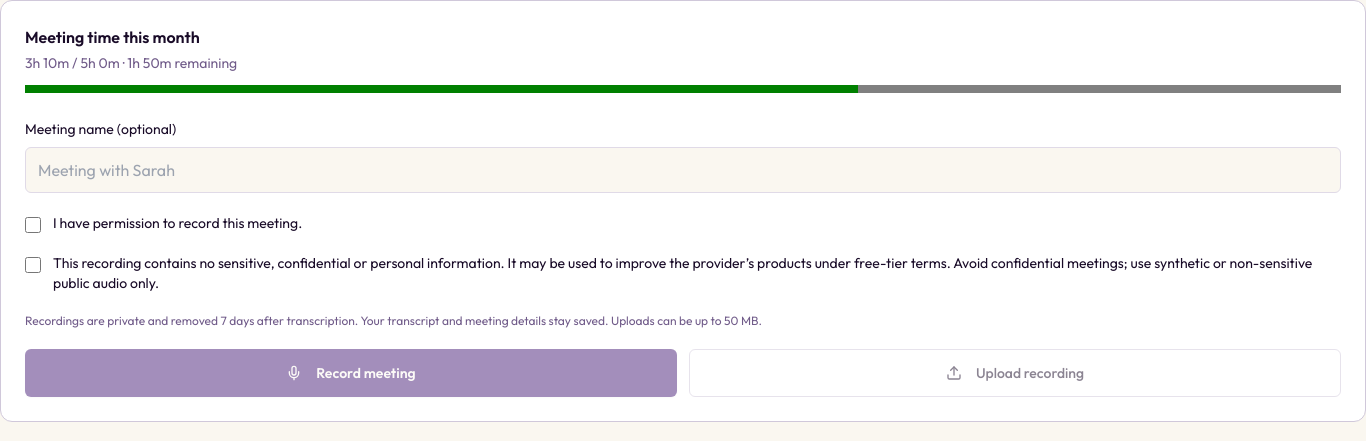
Test: meeting capture › keeps recording when live text reconnects and renders provisional text
The width and height of the screenshot is (1366, 441).
Expected: the text "3h 10m / 5h 0m · 1h 50m remaining" is shown, [25, 54, 237, 72]
Click the checkbox labelled "I have permission to record this meeting." at (33, 225), box [25, 217, 41, 233]
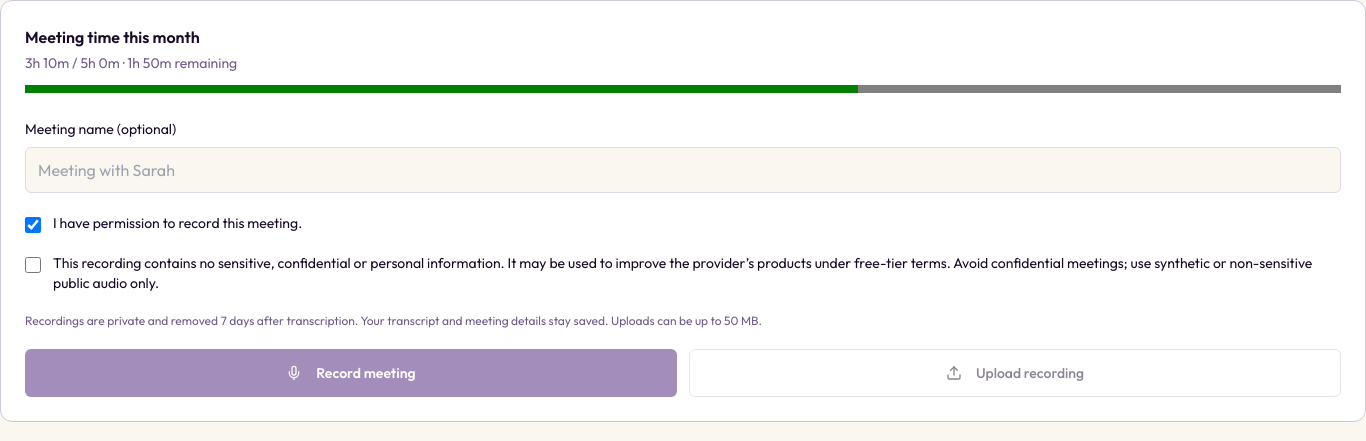
Click the 2nd checkbox at (33, 265), box [25, 257, 41, 273]
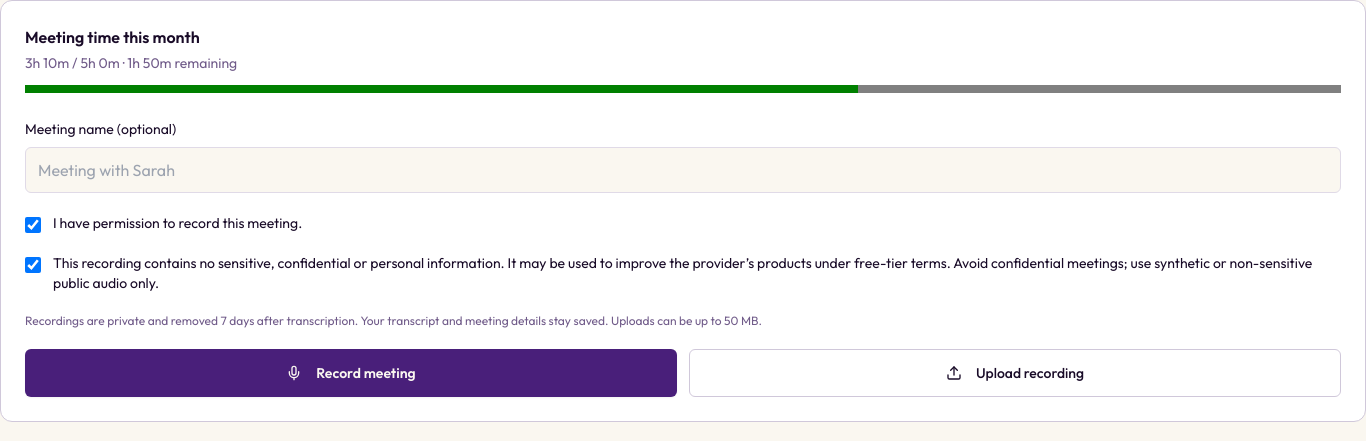
Click the button "Record meeting" at (351, 373), box [25, 349, 677, 397]
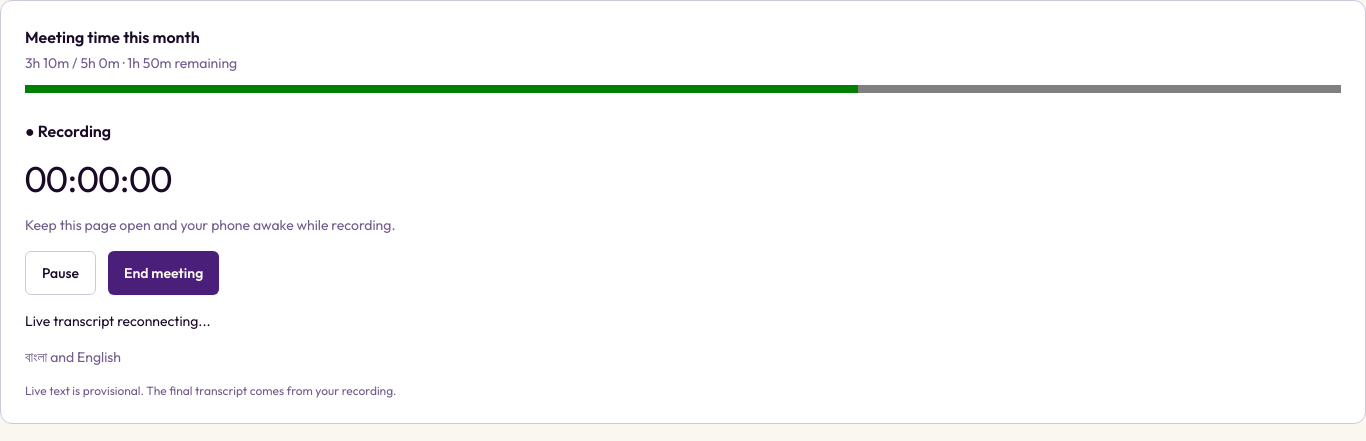
Now the text "● Recording" is shown, box [25, 121, 111, 141]
Now the text "Live transcript reconnecting..." is shown, box [25, 312, 210, 330]
Now the text "বাংলা and English" is shown, box [25, 348, 124, 366]
